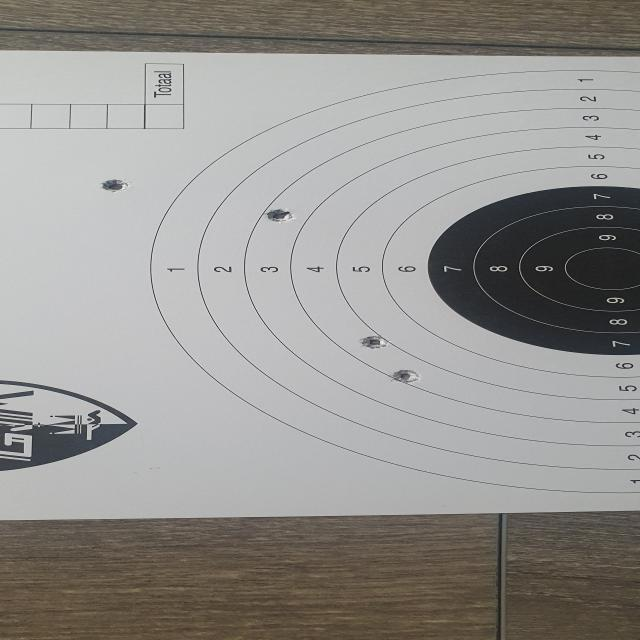0: (98, 177, 136, 193)
3: (261, 208, 298, 224)
4: (389, 369, 421, 384)
5: (358, 334, 392, 349)
Target: (148, 68, 640, 493)
black_contour: (429, 185, 640, 356)
